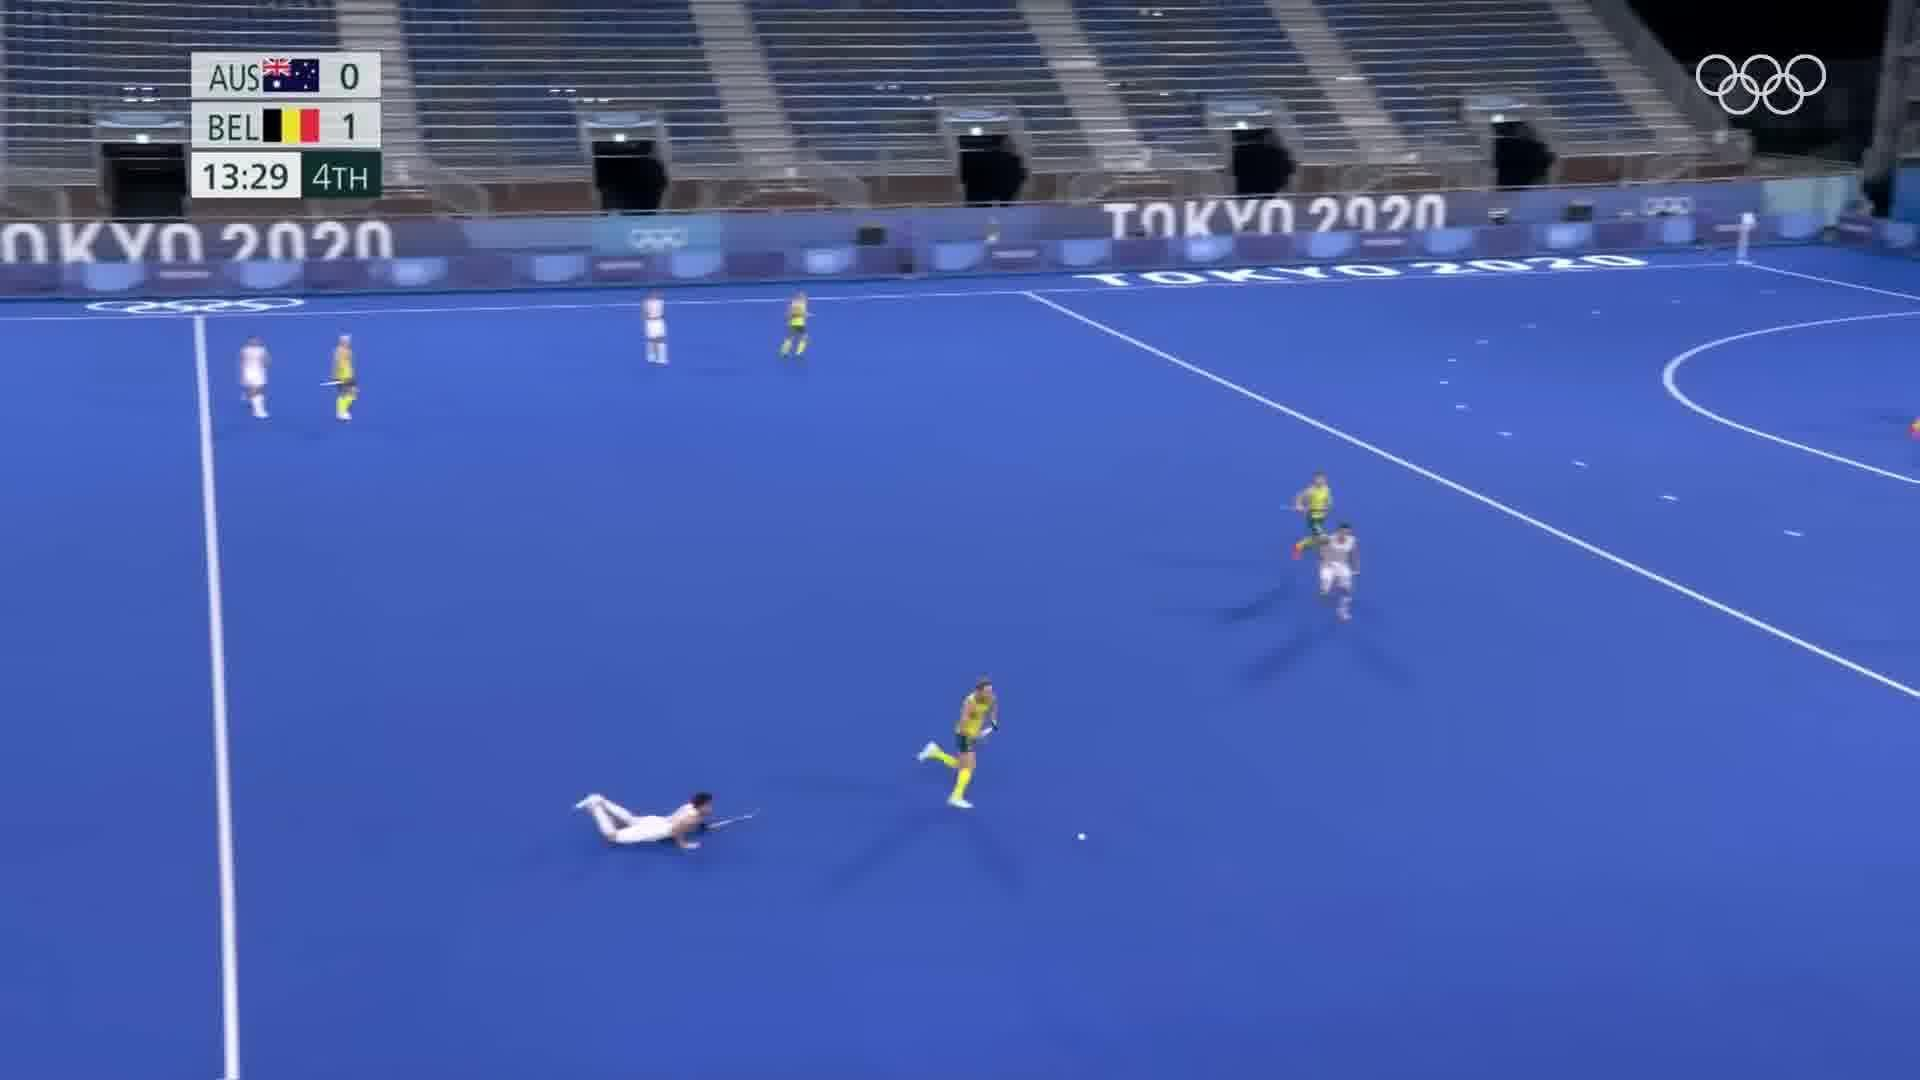ball: (1065, 818, 1101, 847)
